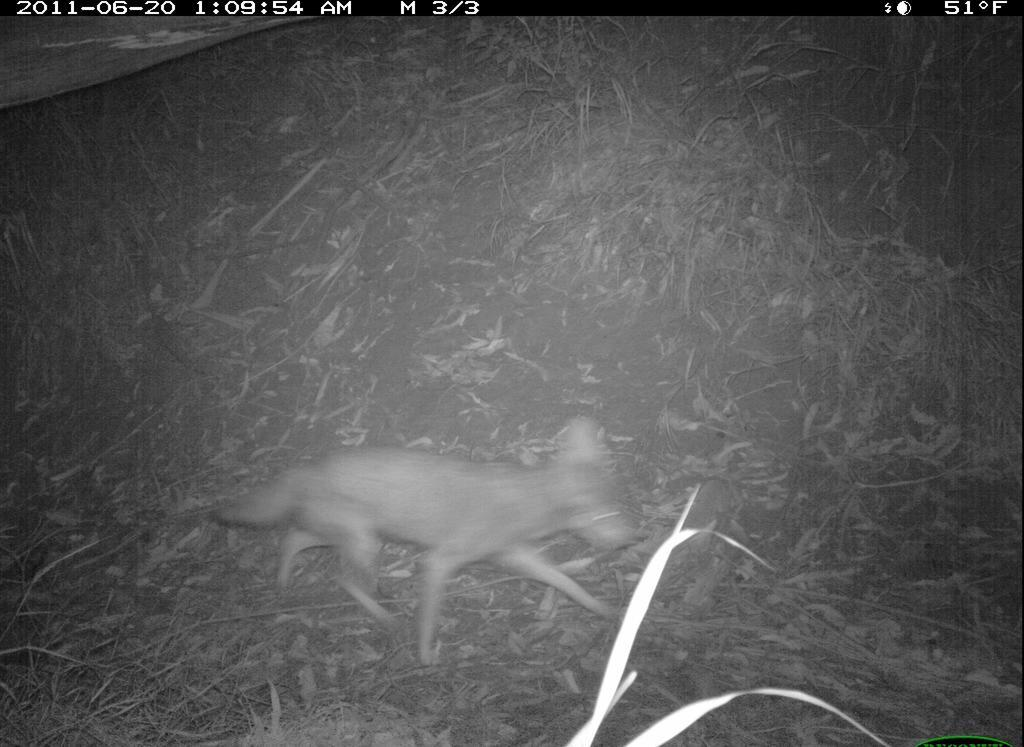coyote: (214, 415, 639, 662)
